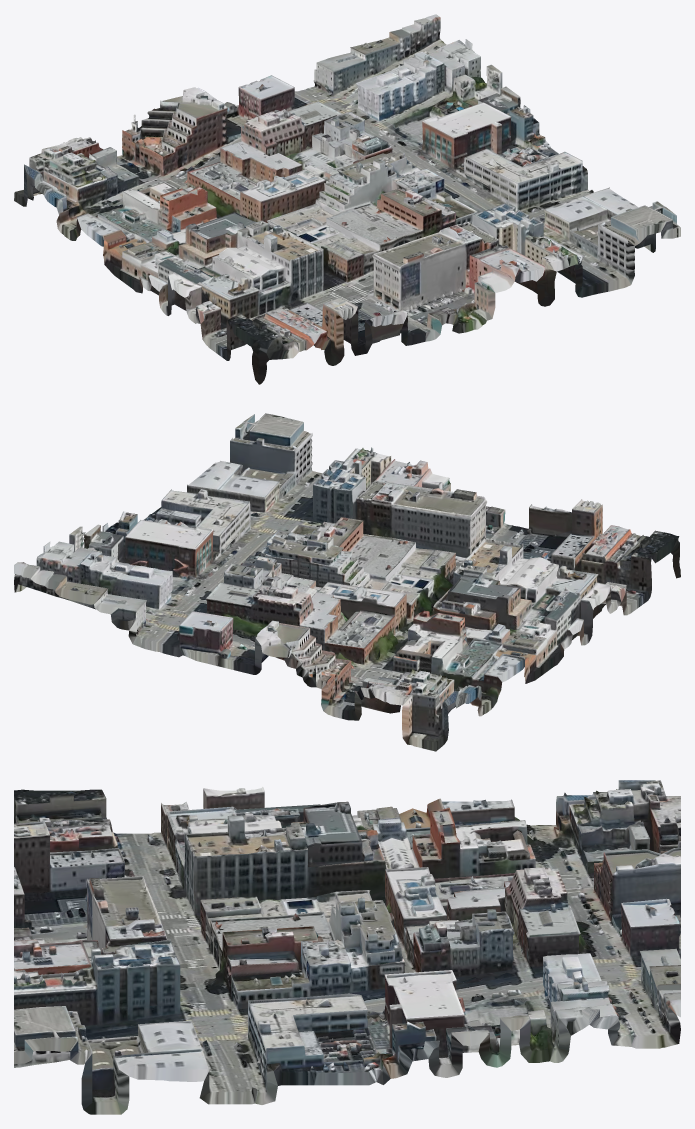
The model's file is z17-20970-50651-h0-yup-uvflip-v3-world.glb.
3 views of the same model, one above another, from view 1: azimuth 30°, elevation 25°; view 2: azimuth 150°, elevation 25°; view 3: azimuth 270°, elevation 25° (orthographic). The views are drawn at different scales.
Size of the model in its own units: 242 by 48.96 by 243.
1 material, 1 textured.
